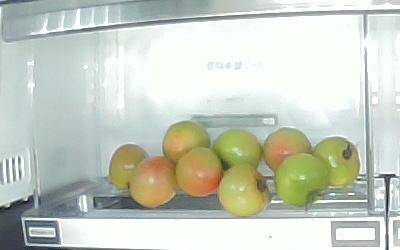tomato: (273, 154, 331, 211), (218, 163, 270, 215), (312, 136, 361, 186), (130, 155, 177, 207), (176, 147, 224, 197), (263, 126, 312, 173), (213, 128, 262, 174), (162, 121, 211, 165), (108, 144, 150, 190)
